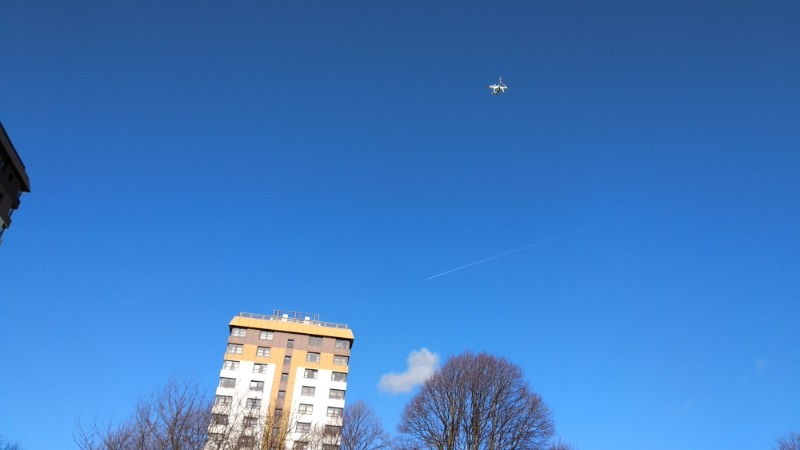drone: (487, 74, 509, 96)
